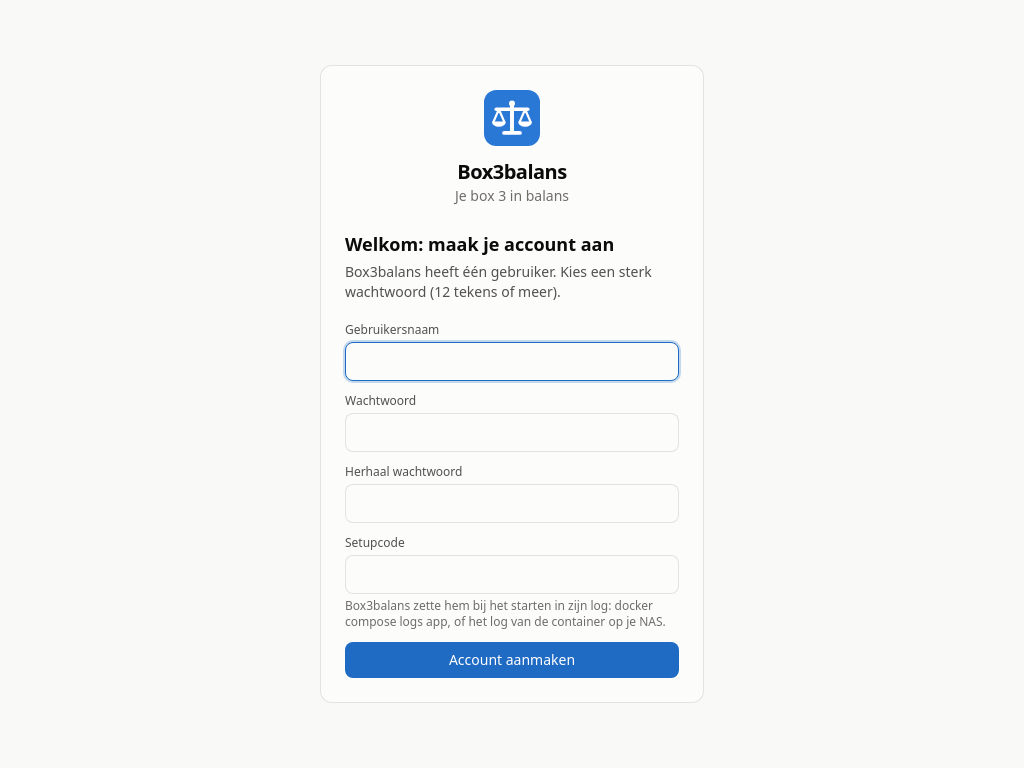
Test case: first start and signing in › creates the first account only with matching passwords and the setup code
Check: the heading "Welkom: maak je account aan" is shown, box [345, 232, 614, 256]
Type "sanne" into the field labelled "Gebruikersnaam". click: (512, 362)
box: [345, 342, 679, 381]
Type "correct horse battery" into the password field labelled "Wachtwoord". click: (512, 432)
box: [345, 413, 679, 452]
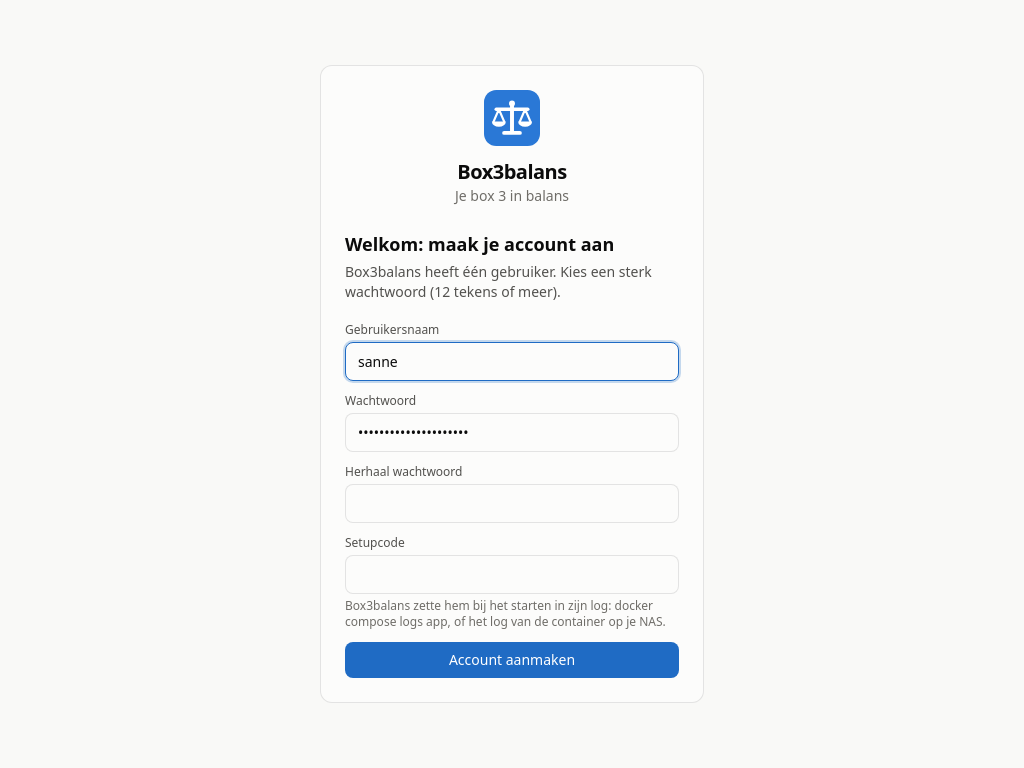
Type "correct horse batery" into the password field labelled "Herhaal wachtwoord". click: (512, 504)
box: [345, 484, 679, 523]
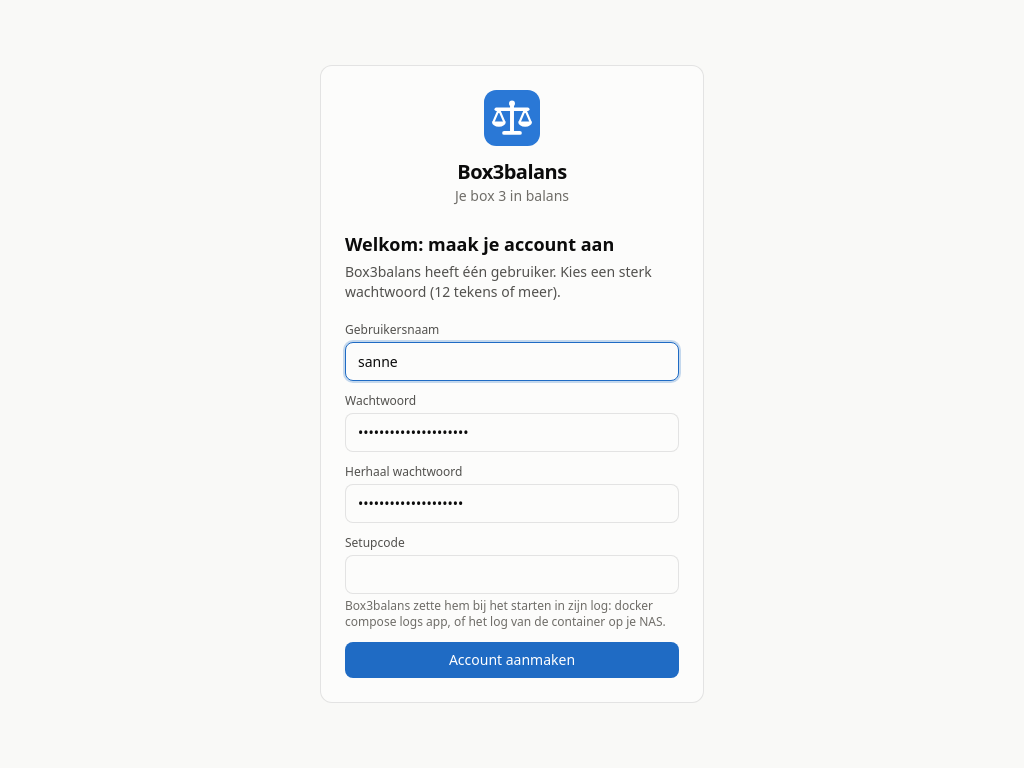
Type "K7QX2-MPF9R" into the field labelled "Setupcode". click: (512, 574)
box: [345, 555, 679, 594]
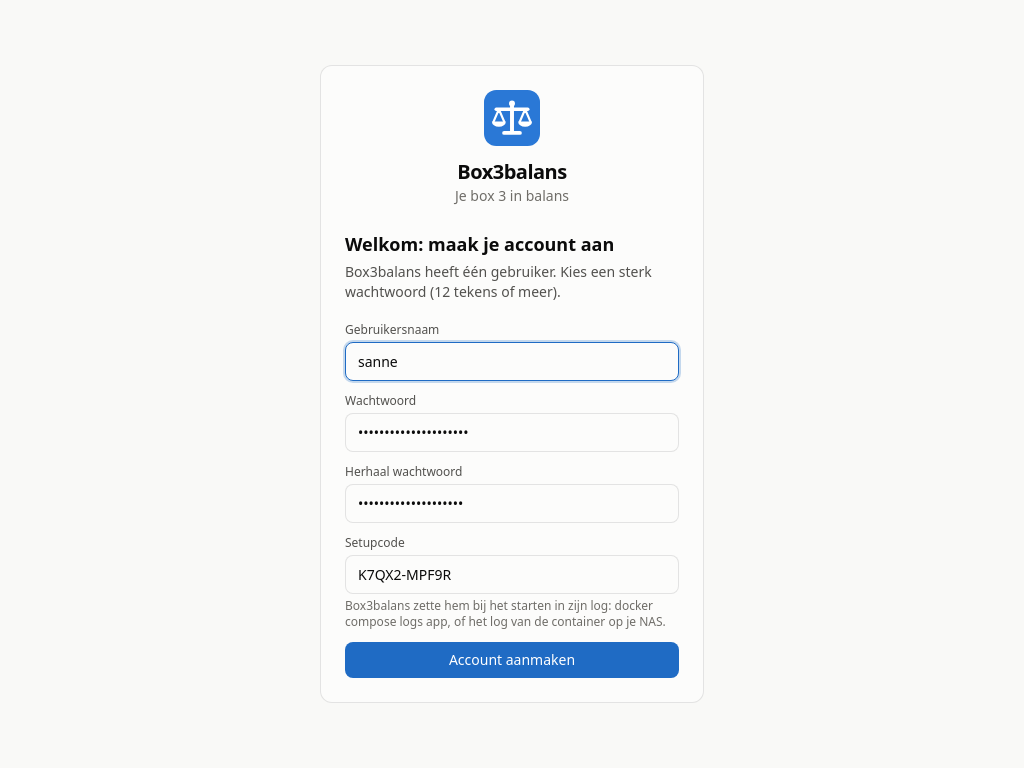
Click the button "Account aanmaken". click: (512, 660)
box: [345, 642, 679, 678]
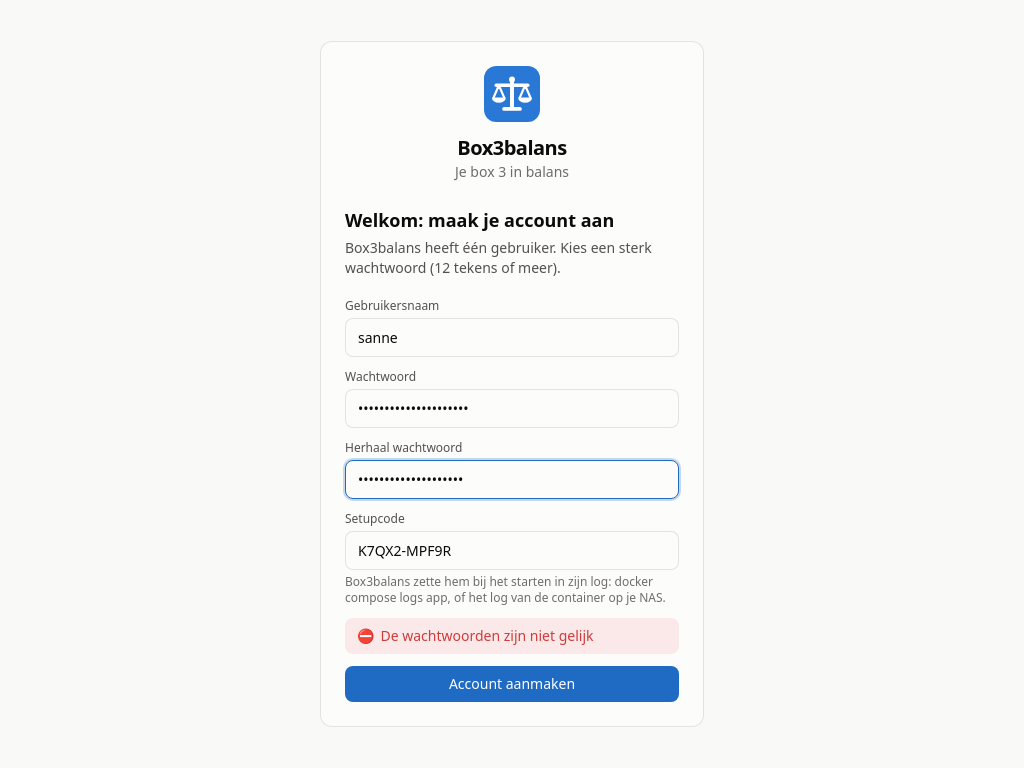
Check: the text "De wachtwoorden zijn niet gelijk" is shown, box [380, 626, 594, 645]
Type "correct horse battery" into the password field labelled "Herhaal wachtwoord". click: (512, 480)
box: [345, 460, 679, 499]
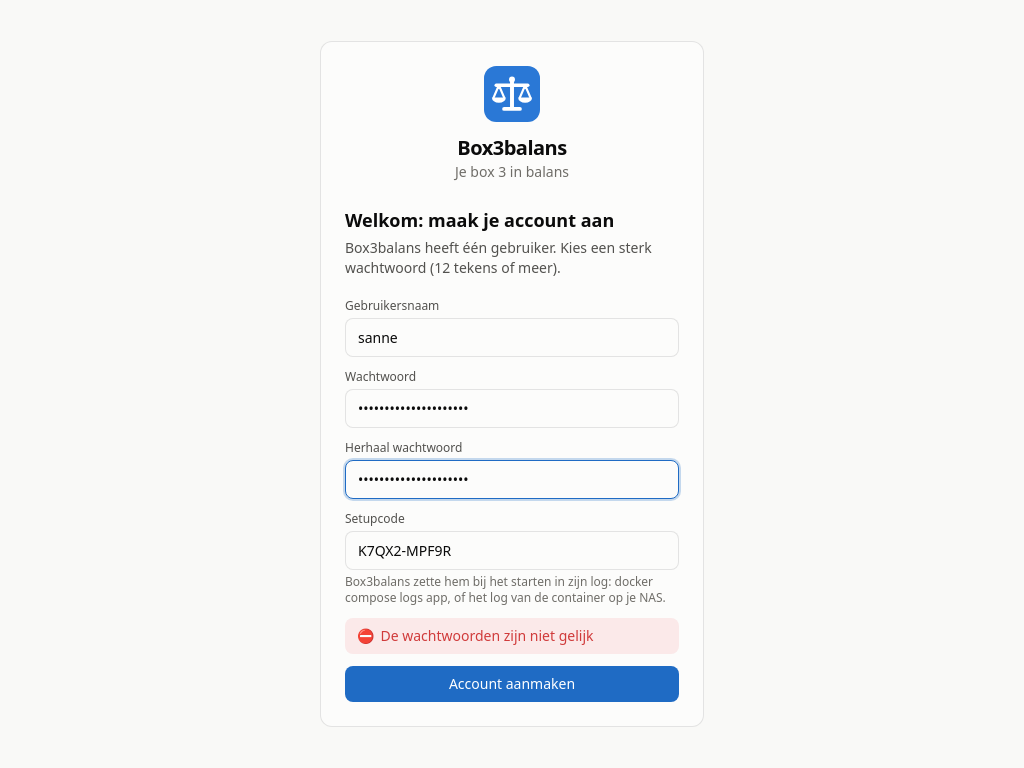
Click the button "Account aanmaken". click: (512, 684)
box: [345, 666, 679, 702]
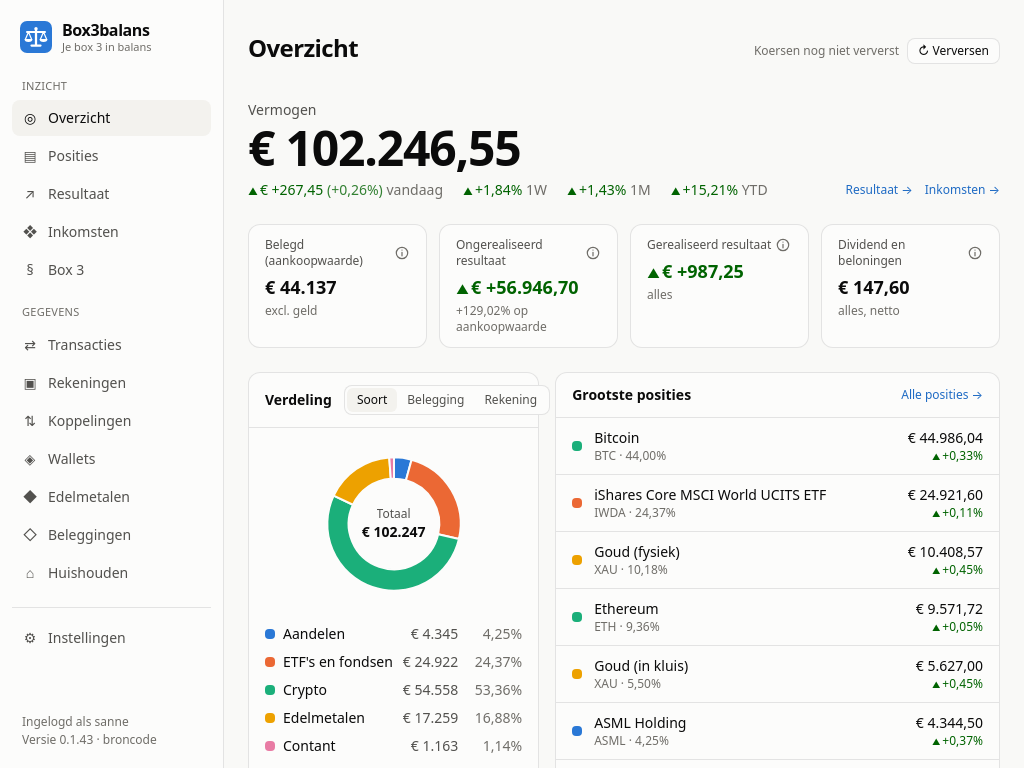
Check: the heading "Overzicht" is shown, box [248, 32, 358, 64]
